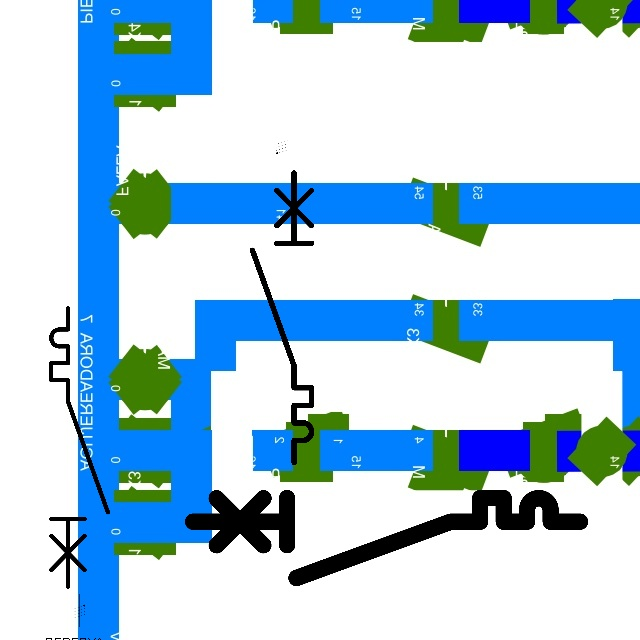interruptor_termomagnetico: (183, 488, 590, 587), (245, 165, 319, 469), (44, 301, 115, 593)
